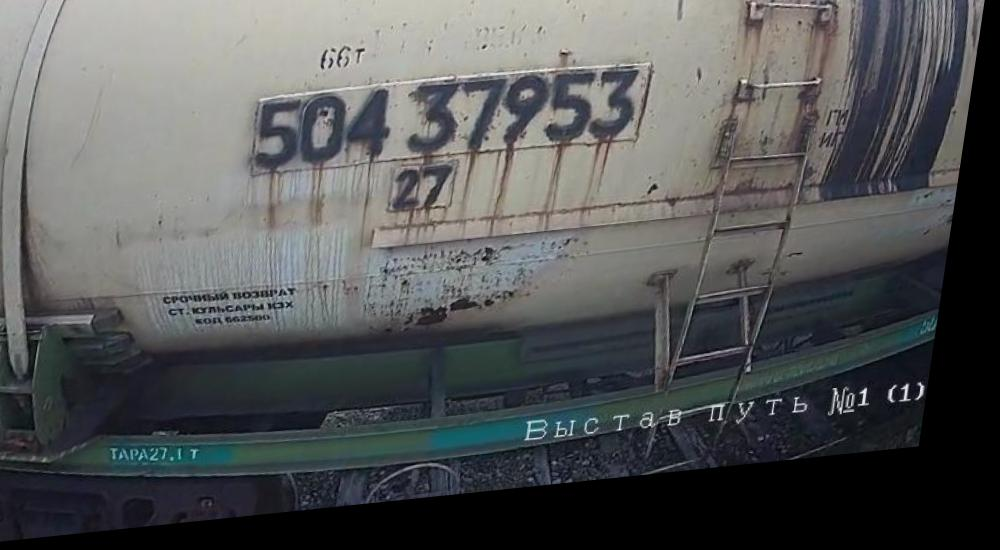Wagon-number: (254, 70, 655, 188)
